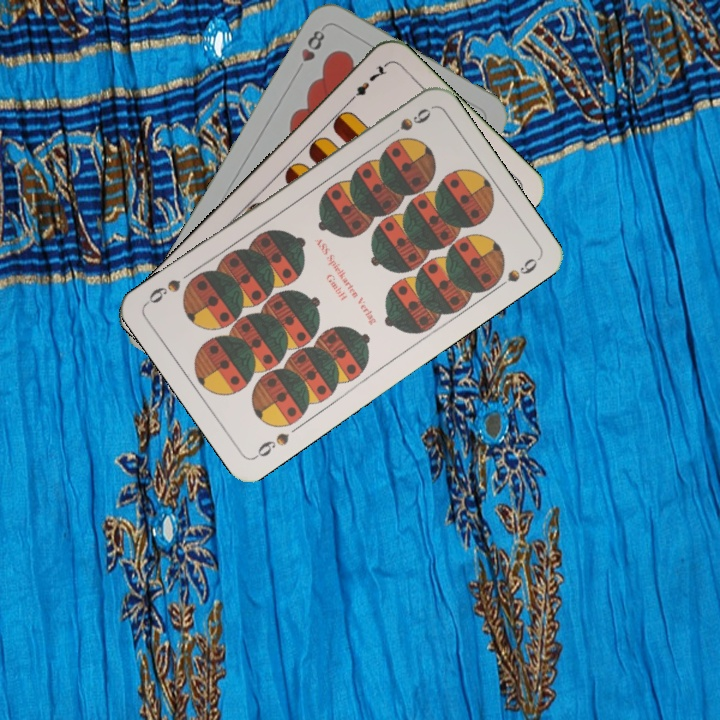E7: (344, 59, 390, 106)
H8: (292, 26, 328, 76)
S9: (381, 103, 434, 143), (250, 428, 292, 461)
